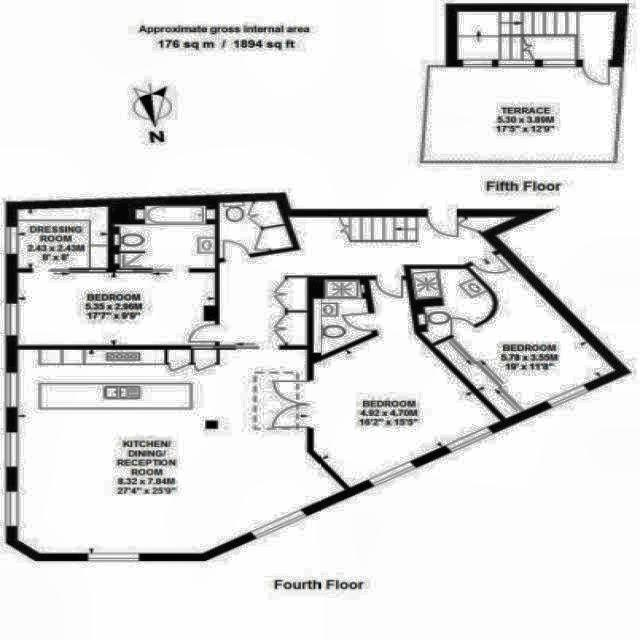room: (18, 348, 343, 554), (253, 264, 500, 516), (413, 246, 614, 448), (218, 214, 516, 346), (19, 273, 214, 345), (410, 260, 495, 344), (113, 204, 216, 269), (18, 206, 108, 268), (211, 193, 292, 258), (312, 279, 372, 359)
